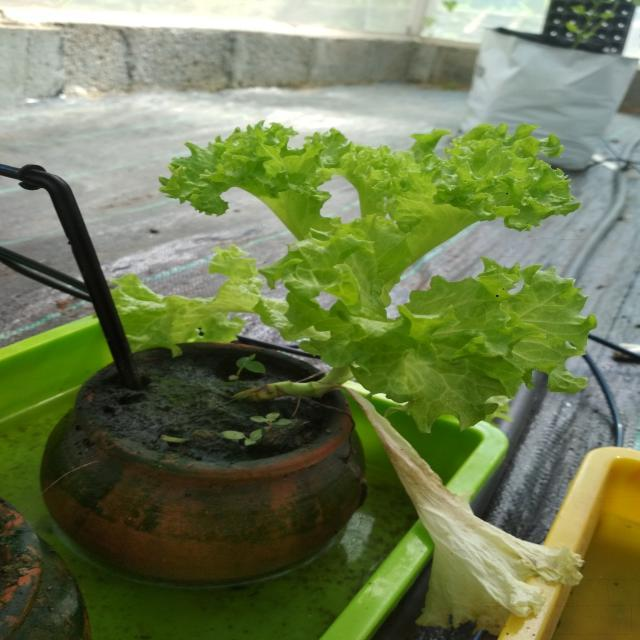Lettuce-Not-Ready-to-Harvest: (107, 119, 587, 411)
